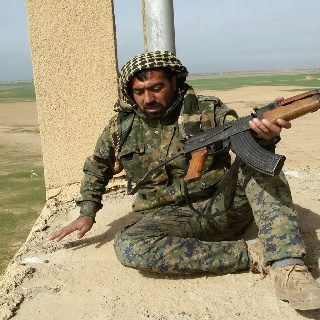rifle: (127, 88, 320, 195)
